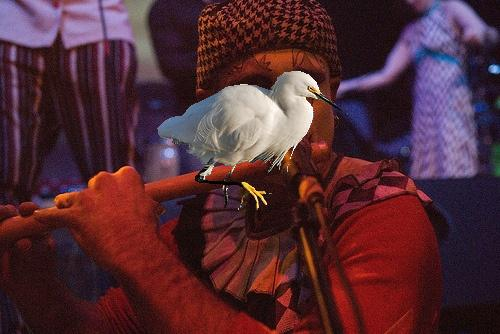tampered: (158, 72, 348, 210)
